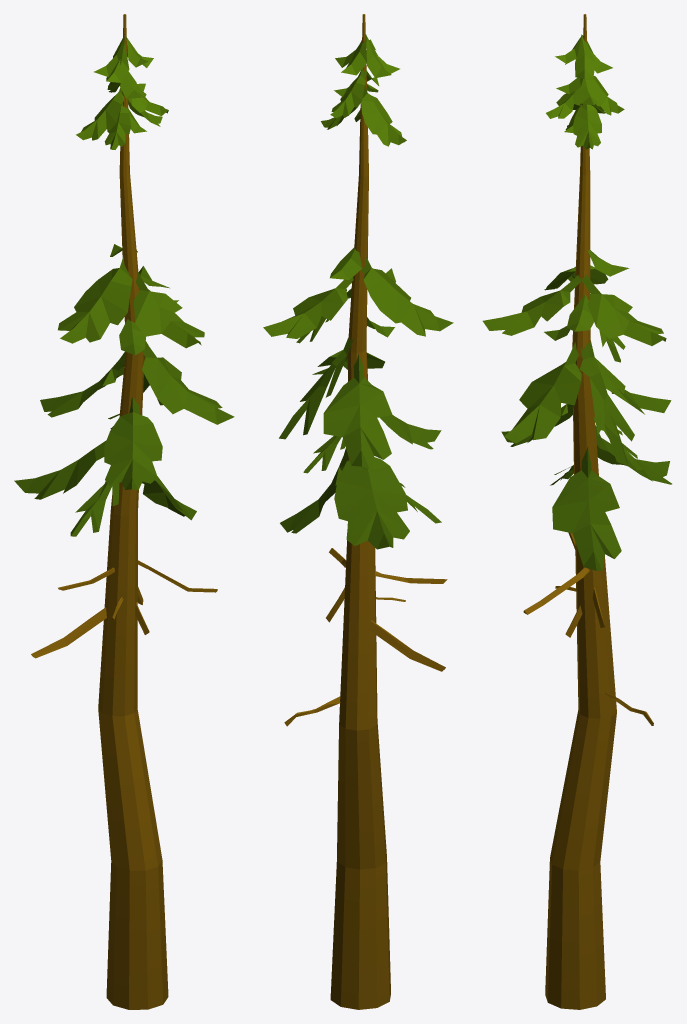
The picture shows the model from 3 angles, left to right: view 1: azimuth 30°, elevation 25°; view 2: azimuth 150°, elevation 25°; view 3: azimuth 270°, elevation 25°; orthographic projection.
Parts seen in each view (by area): view 1: coniferous_trees_23; view 2: coniferous_trees_23; view 3: coniferous_trees_23.
Part boxes in pixels (box(x1,y1,x2,y2)): coniferous_trees_23: box(14, 14, 234, 1009); coniferous_trees_23: box(263, 14, 453, 1009); coniferous_trees_23: box(482, 14, 671, 1009).
Bounding box in the file's own units: 1.32 × 7.46 × 1.31.
